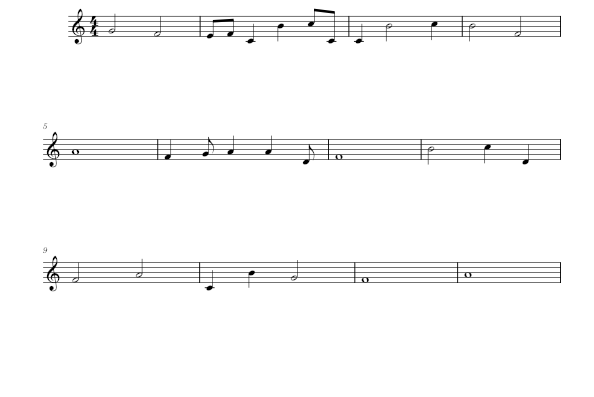Treble Clef: (43, 129, 63, 171), (43, 254, 63, 295), (68, 6, 86, 48)
